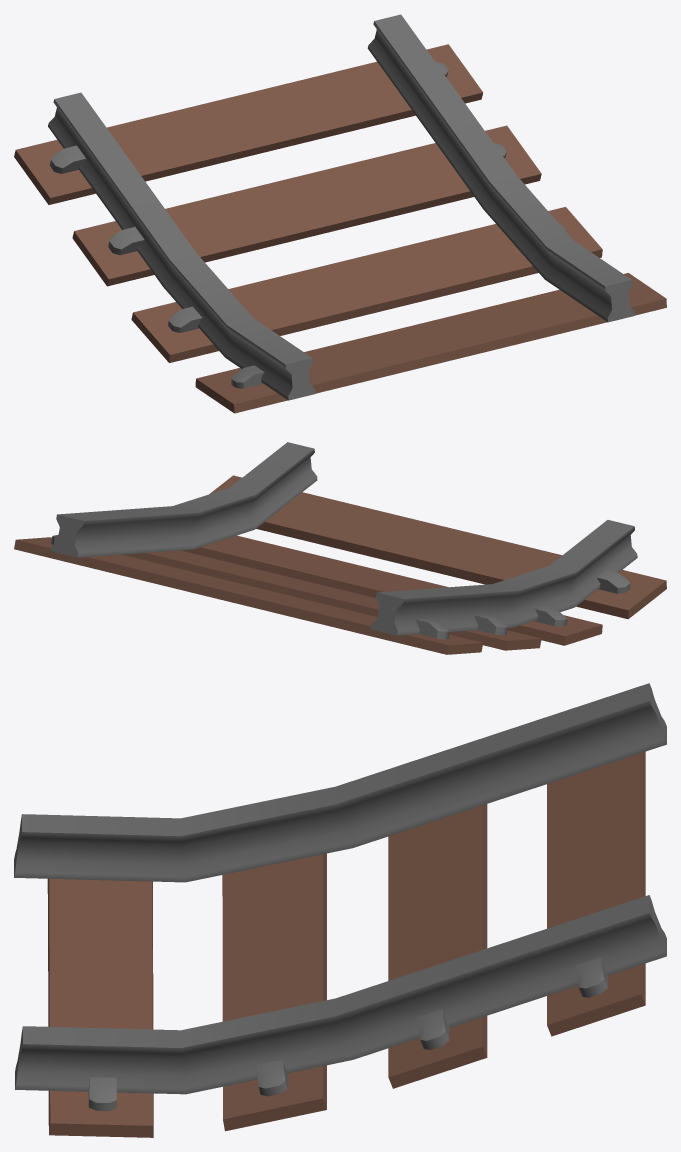
Rendered from Trilho_off_down.fbx.
3 renders of one model, top to bottom at view 1: azimuth 30°, elevation 25°; view 2: azimuth 150°, elevation 25°; view 3: azimuth 270°, elevation 25°, orthographic. The views are drawn at different scales.
Visible parts, largest first — view 1: Trilho_off_down; view 2: Trilho_off_down; view 3: Trilho_off_down.
Part boxes in pixels (box(x1,y1,x2,y2)): Trilho_off_down: box(14, 14, 666, 413); Trilho_off_down: box(14, 442, 666, 654); Trilho_off_down: box(14, 683, 666, 1137).
Bounding box in the file's own units: 203 × 64.62 × 195.
